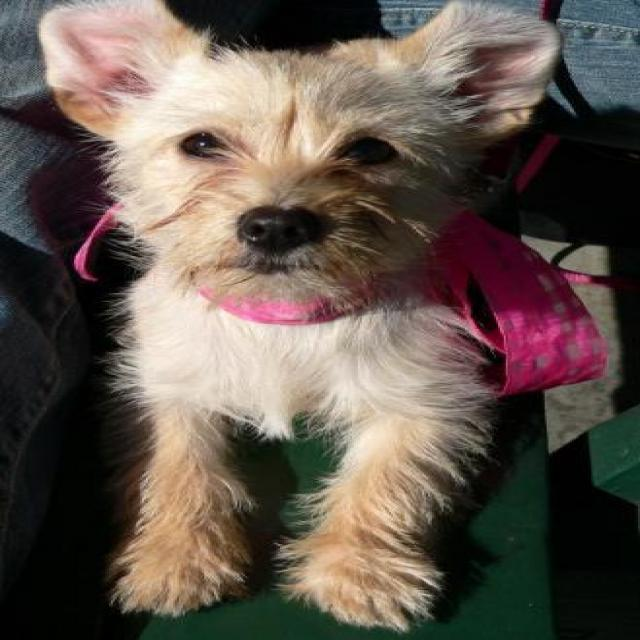dogs: (33, 0, 562, 633)
